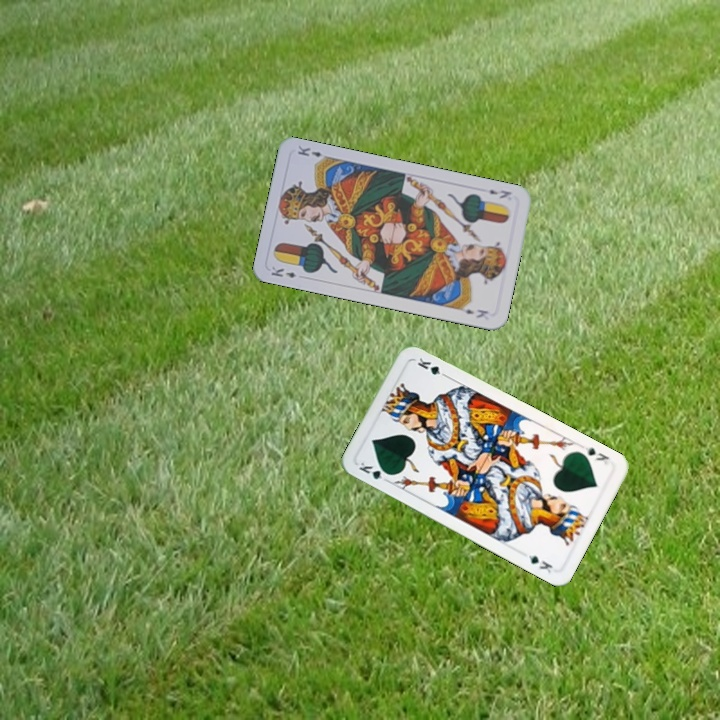EK: (267, 262, 299, 281), (485, 185, 514, 201)
GK: (355, 458, 394, 485), (578, 441, 612, 467)
